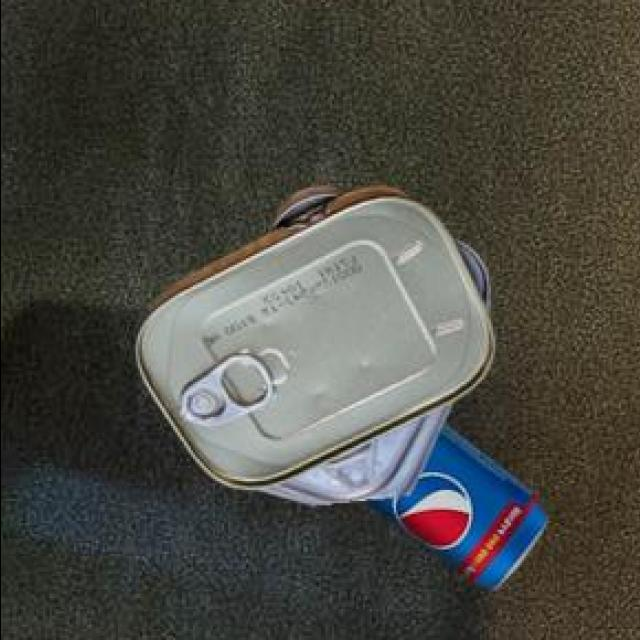logam: (131, 184, 491, 502), (361, 420, 542, 586)
